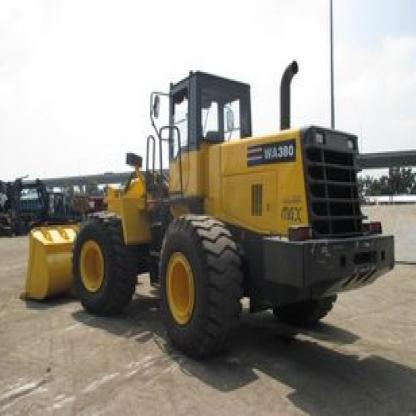bull_dozer/loader/grader: (19, 58, 396, 356)
